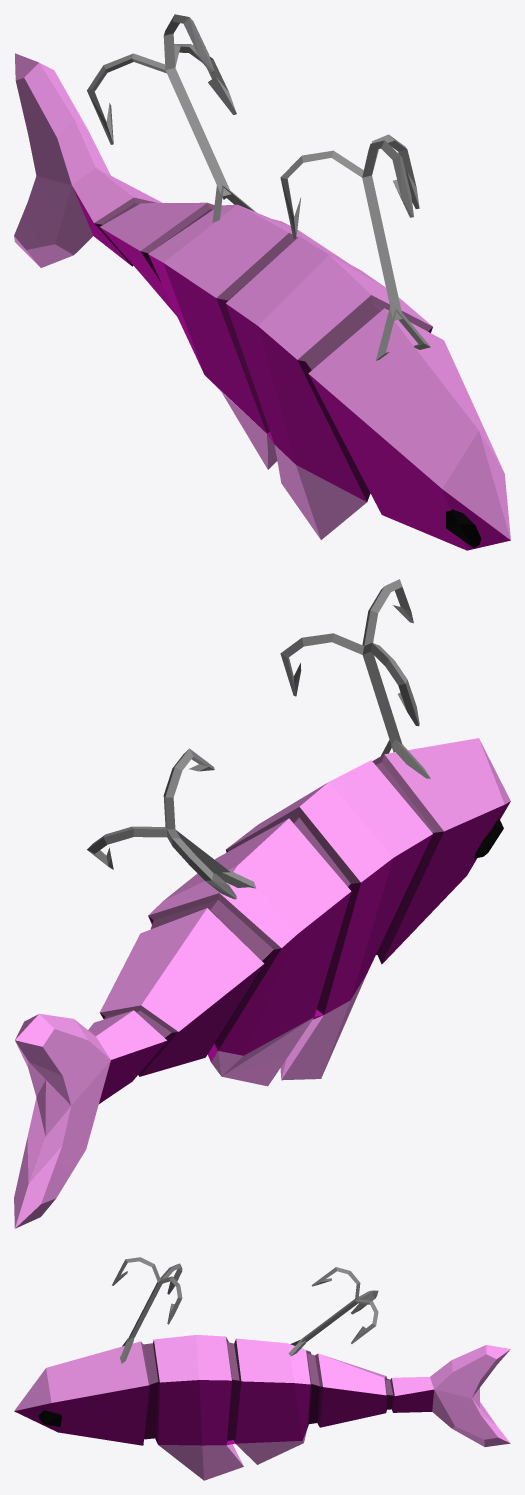
The model's file is Professional Lure.glb.
3 renders of one model, top to bottom at view 1: azimuth 30°, elevation 25°; view 2: azimuth 150°, elevation 25°; view 3: azimuth 270°, elevation 25°, orthographic. The views are drawn at different scales.
Parts seen in each view (by area): view 1: Professional Lure; view 2: Professional Lure; view 3: Professional Lure.
Part boxes in pixels (x1,y1,x2,y2): Professional Lure: (14, 14, 510, 550); Professional Lure: (14, 579, 510, 1228); Professional Lure: (14, 1257, 510, 1480).
Bounding box in the file's own units: 0.0426 × 0.1338 × 0.2695.
1 material, 1 textured.
